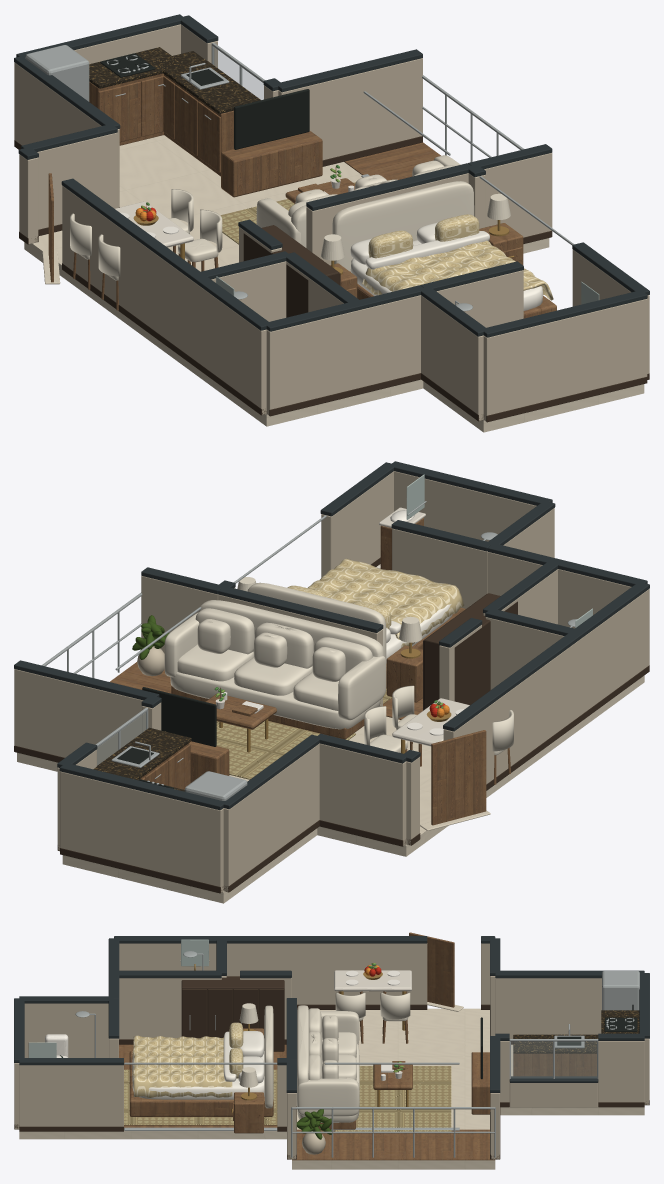
The picture shows the model from 3 angles, top to bottom: view 1: azimuth 30°, elevation 25°; view 2: azimuth 150°, elevation 25°; view 3: azimuth 270°, elevation 25°; orthographic projection. The views are drawn at different scales.
Visible parts, largest first — view 1: Apartment foundation, Ivory masonry.001, Ivory masonry.004, Ivory masonry.002, Ivory masonry.008, Padded headboard.003, Ivory masonry.003, Walnut television console, Ivory masonry.013, Ivory masonry.007, Soft jacquard duvet with folds.003, Ivory masonry.012 (+56 smaller); view 2: Ivory masonry.011, Ivory masonry.001, Ivory masonry.008, Ivory masonry.012, Ivory masonry.013, Apartment foundation, Soft jacquard duvet with folds.003, Ivory masonry.004, Open walnut door leaf, Dark fitted wardrobe, Ivory masonry.018, Ivory masonry.005 (+56 smaller); view 3: Apartment foundation, Ivory masonry.001, Ivory masonry.005, Ivory masonry.012, Soft jacquard duvet with folds.003, Living woven carpet, Ivory masonry.015, Ivory masonry.003, Cutaway window glazing, Ivory masonry.010, Balcony · timber deck.001, Balcony · timber deck (+72 smaller).
Boxes of the visible parts, bbox=[...] form: Apartment foundation: bbox=[24, 135, 644, 432]; Ivory masonry.001: bbox=[62, 186, 266, 414]; Ivory masonry.004: bbox=[483, 299, 647, 421]; Ivory masonry.002: bbox=[266, 295, 420, 415]; Ivory masonry.008: bbox=[278, 58, 422, 160]; Padded headboard.003: bbox=[332, 181, 474, 271]; Ivory masonry.003: bbox=[421, 295, 483, 420]; Walnut television console: bbox=[221, 131, 322, 197]; Ivory masonry.013: bbox=[37, 132, 117, 229]; Ivory masonry.007: bbox=[484, 153, 552, 237]; Soft jacquard duvet with folds.003: bbox=[362, 240, 553, 300]; Ivory masonry.012: bbox=[14, 62, 119, 207]; Ivory masonry.011: bbox=[60, 771, 223, 892]; Ivory masonry.001: bbox=[443, 589, 649, 784]; Ivory masonry.008: bbox=[14, 669, 143, 765]; Ivory masonry.012: bbox=[223, 744, 319, 891]; Ivory masonry.013: bbox=[319, 743, 406, 846]; Apartment foundation: bbox=[17, 675, 644, 903]; Soft jacquard duvet with folds.003: bbox=[307, 558, 464, 647]; Ivory masonry.004: bbox=[394, 471, 536, 541]; Open walnut door leaf: bbox=[431, 730, 486, 825]; Dark fitted wardrobe: bbox=[424, 593, 517, 709]; Ivory masonry.018: bbox=[392, 528, 487, 608]; Ivory masonry.005: bbox=[321, 471, 393, 577]; Apartment foundation: bbox=[19, 1008, 644, 1169]; Ivory masonry.001: bbox=[119, 943, 427, 1004]; Ivory masonry.005: bbox=[19, 1065, 123, 1126]; Ivory masonry.012: bbox=[495, 978, 601, 1038]; Soft jacquard duvet with folds.003: bbox=[132, 1035, 232, 1097]; Living woven carpet: bbox=[334, 1066, 451, 1131]; Ivory masonry.015: bbox=[119, 978, 221, 1039]; Ivory masonry.003: bbox=[24, 1003, 109, 1057]; Cutaway window glazing: bbox=[511, 1042, 596, 1078]; Ivory masonry.010: bbox=[598, 1041, 644, 1102]; Balcony · timber deck.001: bbox=[292, 1130, 494, 1160]; Balcony · timber deck: bbox=[297, 1129, 489, 1158].
Bounding box in the file's own units: 5.84 × 1.37 × 9.53.
25 materials, 6 textured.
